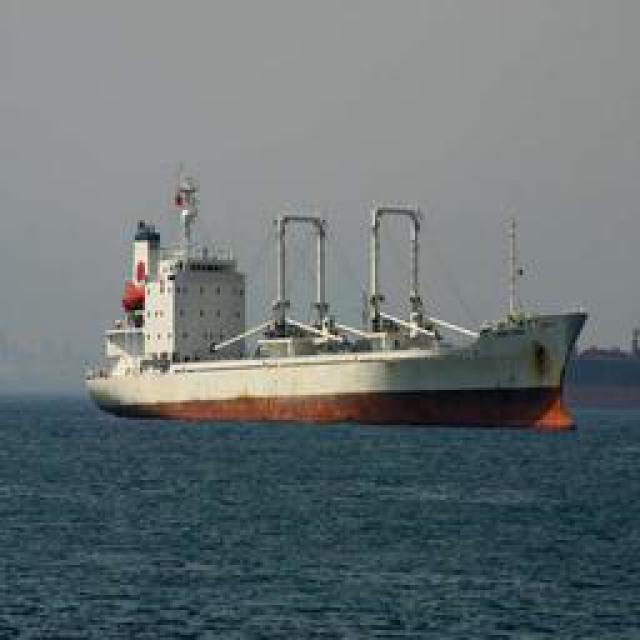Ship: (87, 205, 587, 428)
